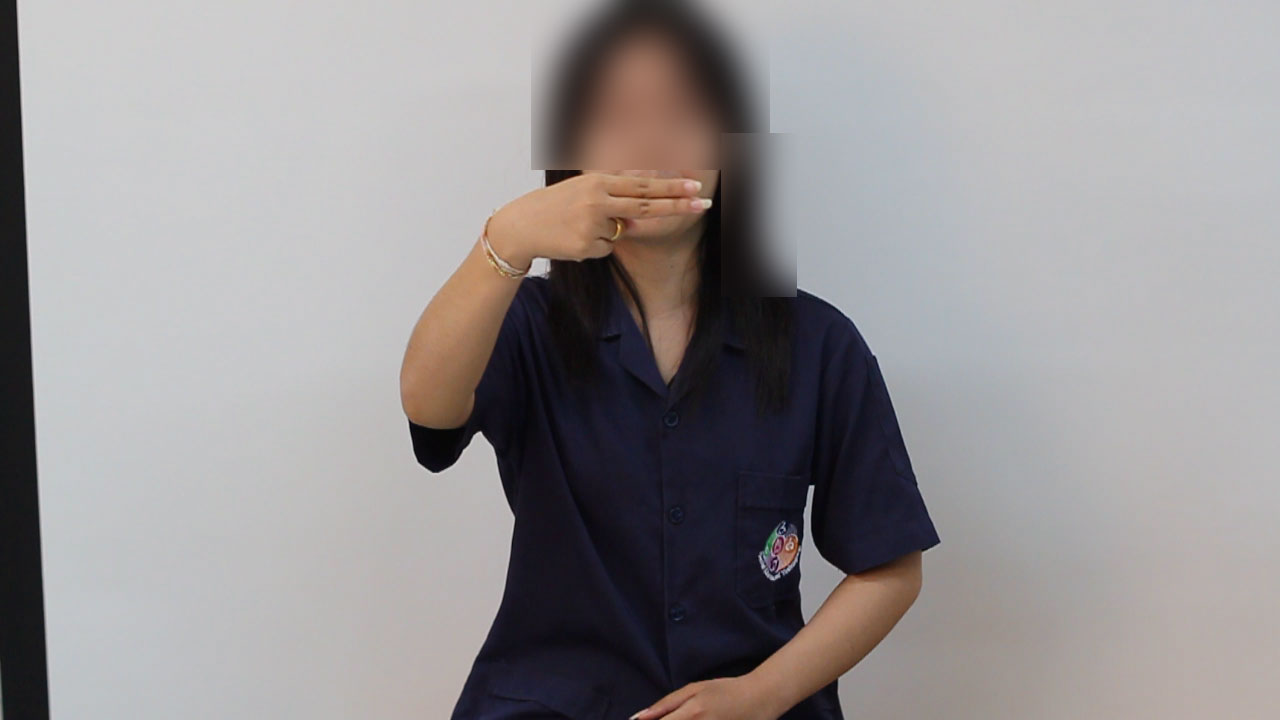hor: (471, 167, 729, 285)
